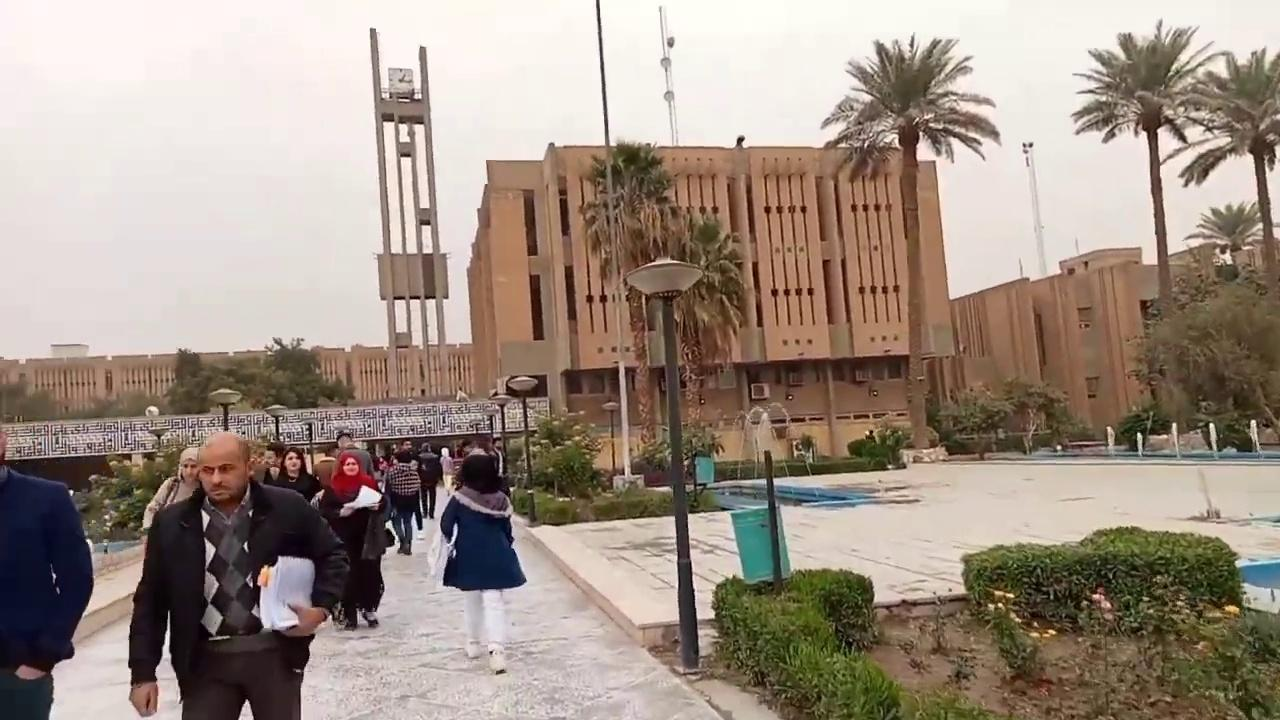car: (382, 67, 417, 101)
fountain: (690, 448, 924, 516), (1028, 417, 1277, 461), (1210, 525, 1280, 644)
person: (127, 433, 351, 719), (0, 428, 94, 719), (438, 451, 527, 674), (140, 446, 203, 559)
tree: (819, 32, 1001, 449), (1069, 17, 1227, 423), (576, 137, 745, 471), (1123, 253, 1279, 449), (819, 31, 1001, 180), (1175, 45, 1279, 290), (510, 408, 605, 501), (248, 335, 355, 409), (631, 416, 723, 486), (69, 471, 146, 548), (999, 375, 1071, 454), (936, 384, 1013, 456), (1185, 198, 1264, 268), (162, 347, 234, 414)
